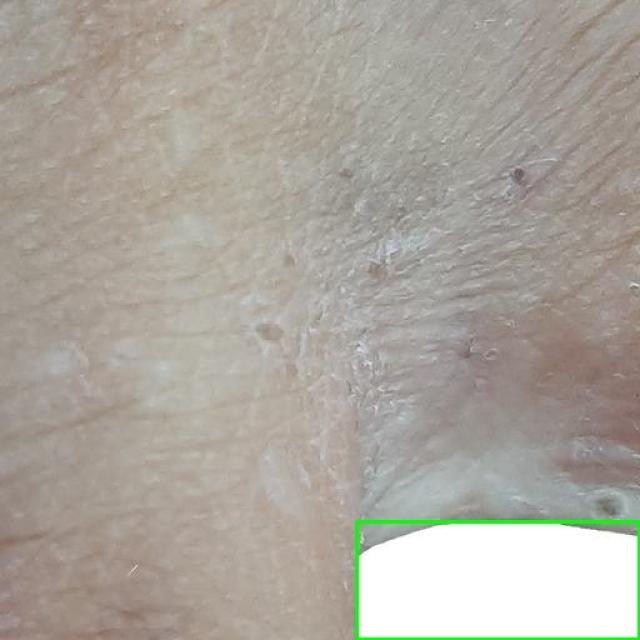Scabies: (356, 521, 639, 639)
